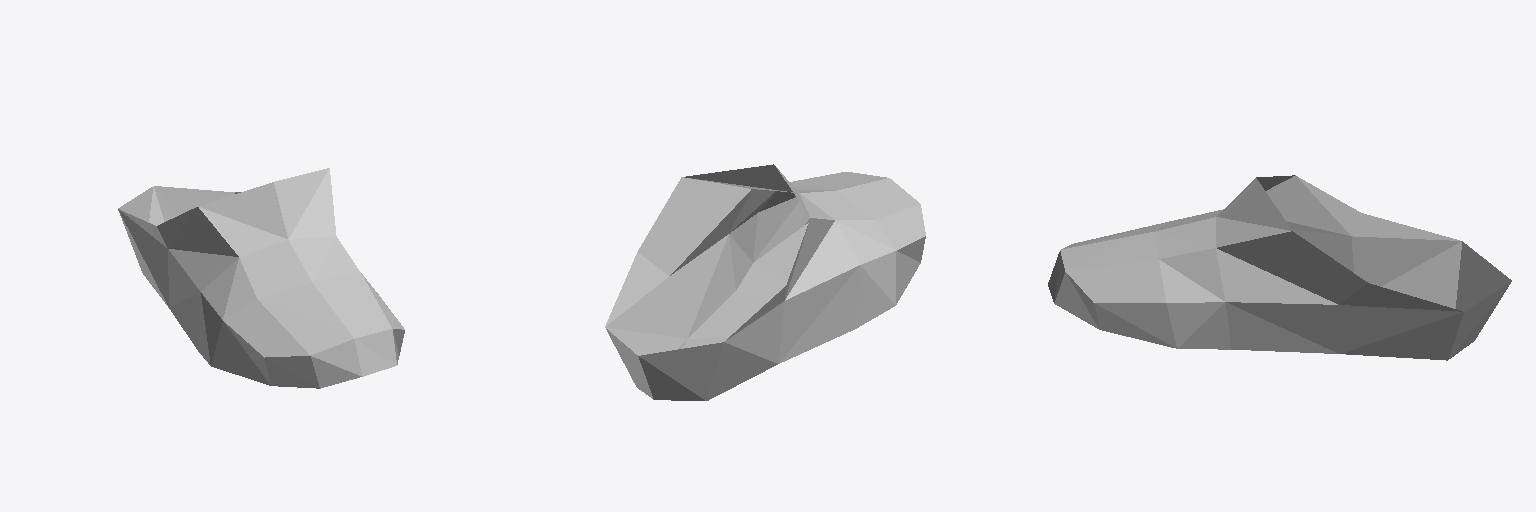
Rendered from human_rightshoe.obj.
3 views of the same model, side by side, from view 1: azimuth 30°, elevation 25°; view 2: azimuth 150°, elevation 25°; view 3: azimuth 270°, elevation 25° (orthographic).
Parts seen in each view (by area): view 1: Right_Shoe; view 2: Right_Shoe; view 3: Right_Shoe.
Part boxes in pixels (bbox=[...]): Right_Shoe: bbox=[118, 168, 404, 388]; Right_Shoe: bbox=[605, 164, 925, 400]; Right_Shoe: bbox=[1048, 175, 1511, 360].
Bounding box in the file's own units: 0.2023 × 0.182 × 0.4705.